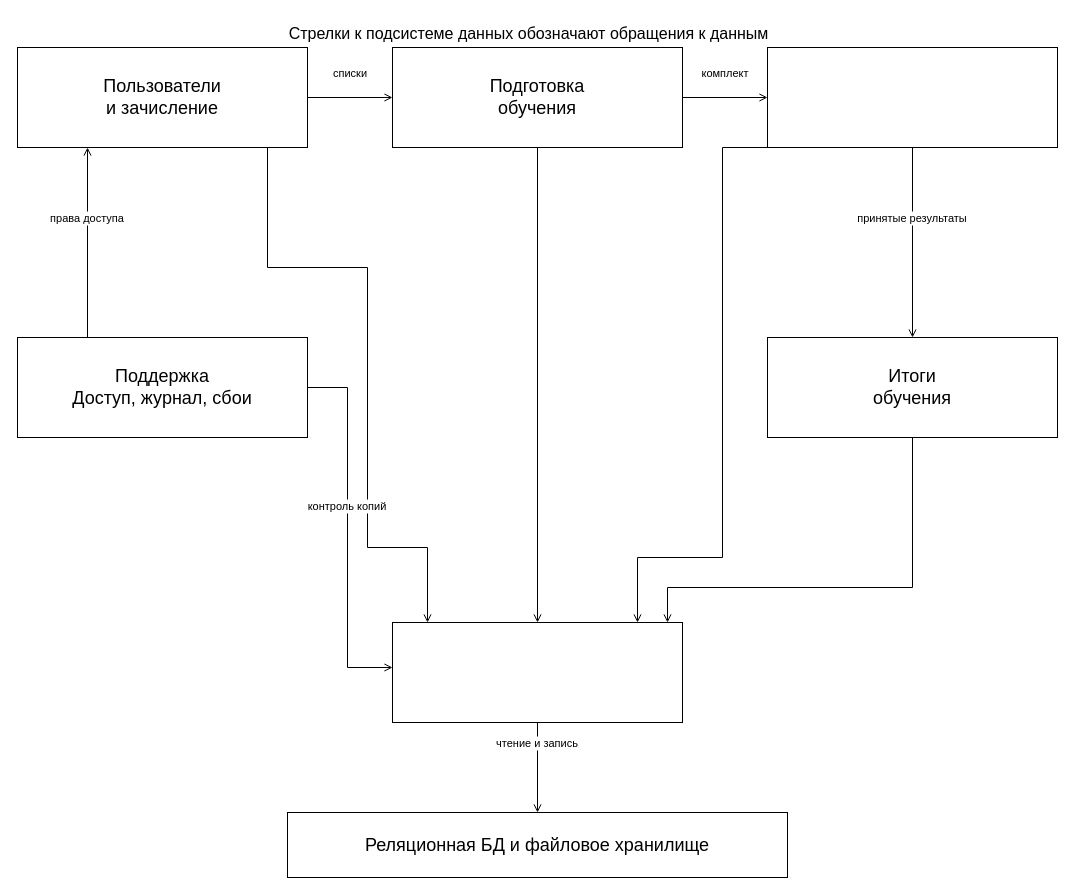
Some shapes in this 1075 by 895 pixel diagram are drawn without their labels. The centre of each missing label's shape, as x and y in pixels:
"Обучение и оценивание" belongs at pixel 912 97.
"Работа с данными Чтение, запись, копии" belongs at pixel 537 672.
